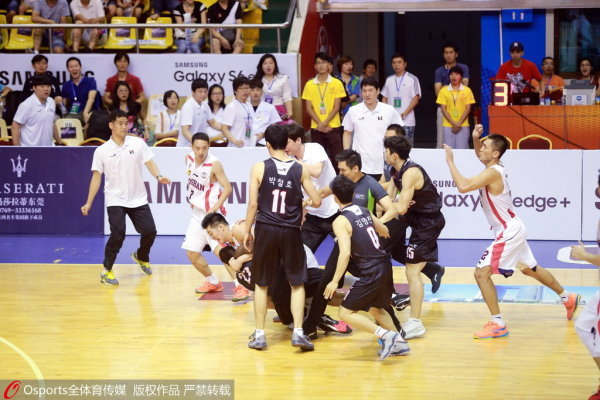10+: (3, 12, 600, 389)
down: (208, 243, 385, 339), (196, 207, 340, 265)
